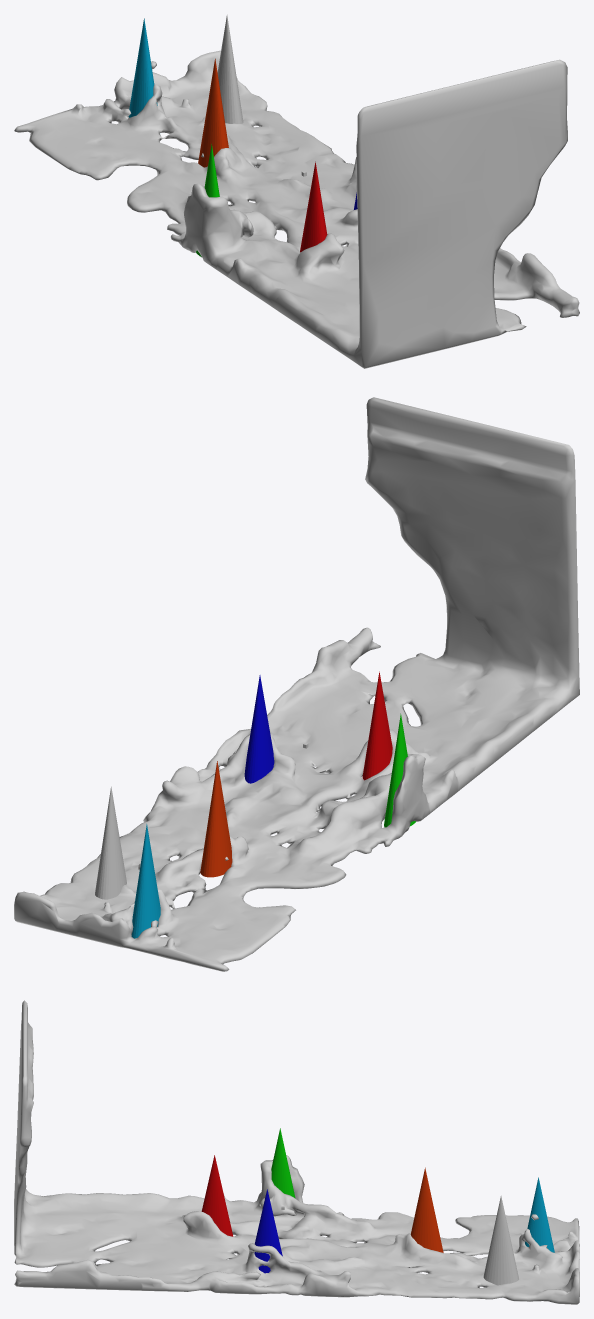
3 views of the same model, one above another, from view 1: azimuth 30°, elevation 25°; view 2: azimuth 150°, elevation 25°; view 3: azimuth 270°, elevation 25° (orthographic). The views are drawn at different scales.
Visible parts, largest first — view 1: Liquid_Domain, 円錐.004, 円錐, 円錐.005, 円錐.001, 円錐.003; view 2: Liquid_Domain, 円錐.004, 円錐, 円錐.002, 円錐.005, 円錐.001, 円錐.003; view 3: Liquid_Domain, 円錐, 円錐.004, 円錐.001, 円錐.002, 円錐.005, 円錐.003.
Part boxes in pixels (box(x1,y1,x2,y2)): Liquid_Domain: box(14, 50, 579, 368); 円錐.004: box(198, 58, 228, 167); 円錐: box(217, 14, 243, 123); 円錐.005: box(128, 18, 157, 117); 円錐.001: box(300, 161, 327, 252); 円錐.003: box(196, 144, 219, 257); Liquid_Domain: box(14, 397, 579, 971); 円錐.004: box(200, 761, 232, 877); 円錐: box(95, 786, 126, 899); 円錐.002: box(244, 675, 274, 783); 円錐.005: box(131, 824, 160, 938); 円錐.001: box(362, 671, 392, 780); 円錐.003: box(384, 713, 415, 827); Liquid_Domain: box(14, 1000, 579, 1304); 円錐: box(483, 1195, 518, 1285); 円錐.004: box(410, 1167, 443, 1252); 円錐.001: box(201, 1155, 233, 1236); 円錐.002: box(254, 1189, 282, 1273); 円錐.005: box(525, 1177, 554, 1252); 円錐.003: box(271, 1128, 295, 1198).
Size of the model in its own units: 129 by 157 by 361.
